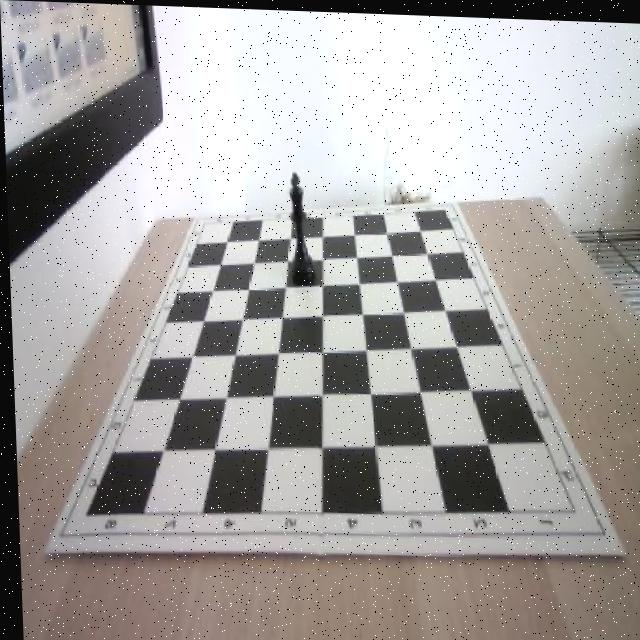black-bishop: (283, 171, 314, 282)
